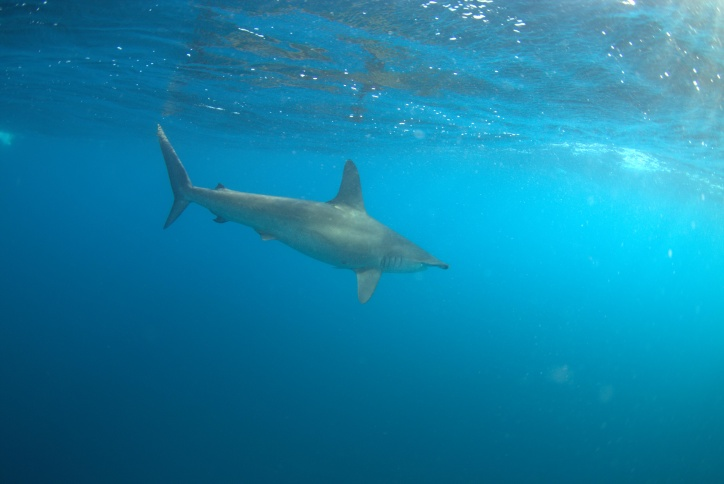Hammer: (125, 112, 468, 319)
